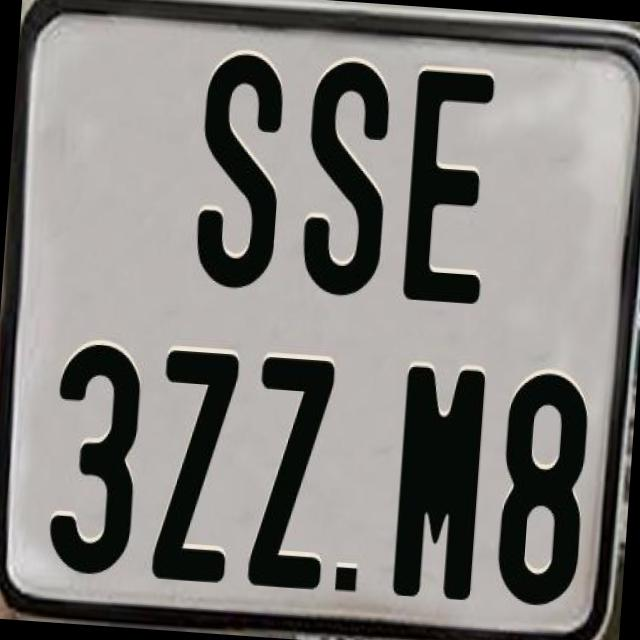3: (44, 337, 144, 573)
8: (492, 367, 594, 606)
E: (402, 67, 501, 309)
M: (388, 363, 482, 606)
S: (297, 54, 398, 302), (188, 49, 282, 297)
Z: (244, 354, 336, 598), (148, 348, 236, 584)
